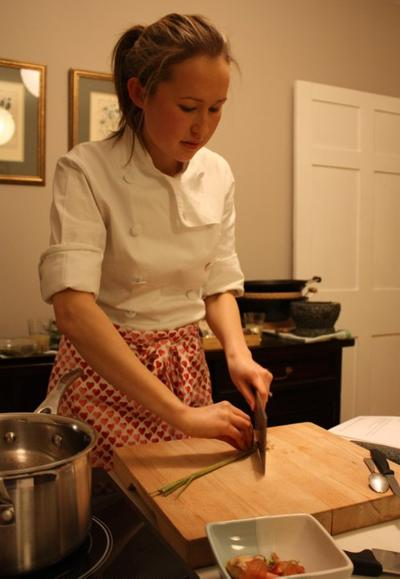person: (36, 11, 274, 470)
